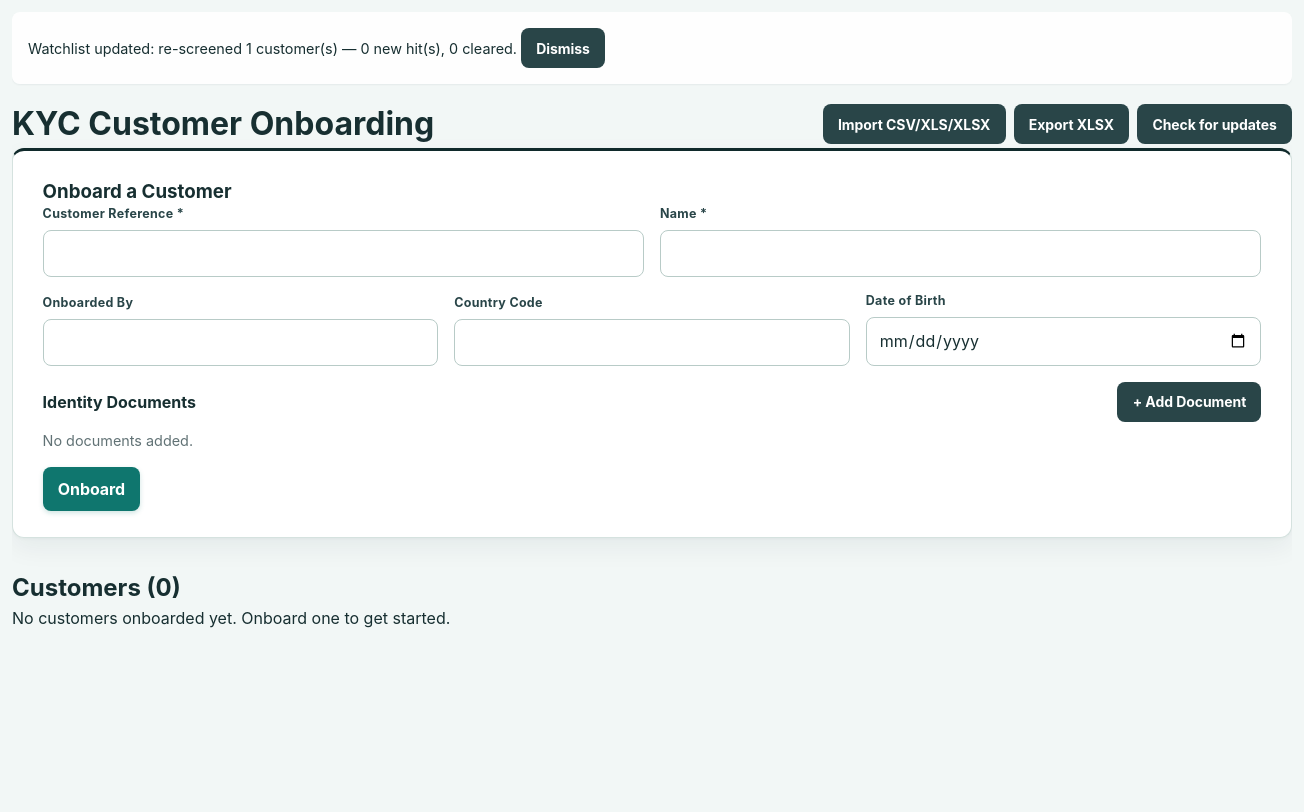
Test: re-screen banner › the background banner is up first: the click's report of the same run replaces it
expect the text "Watchlist updated: re-screened 1 customer" is shown: met, box [28,40,517,57]
Click the button "Check for updates" at (1215, 124), box [1137,104,1292,144]
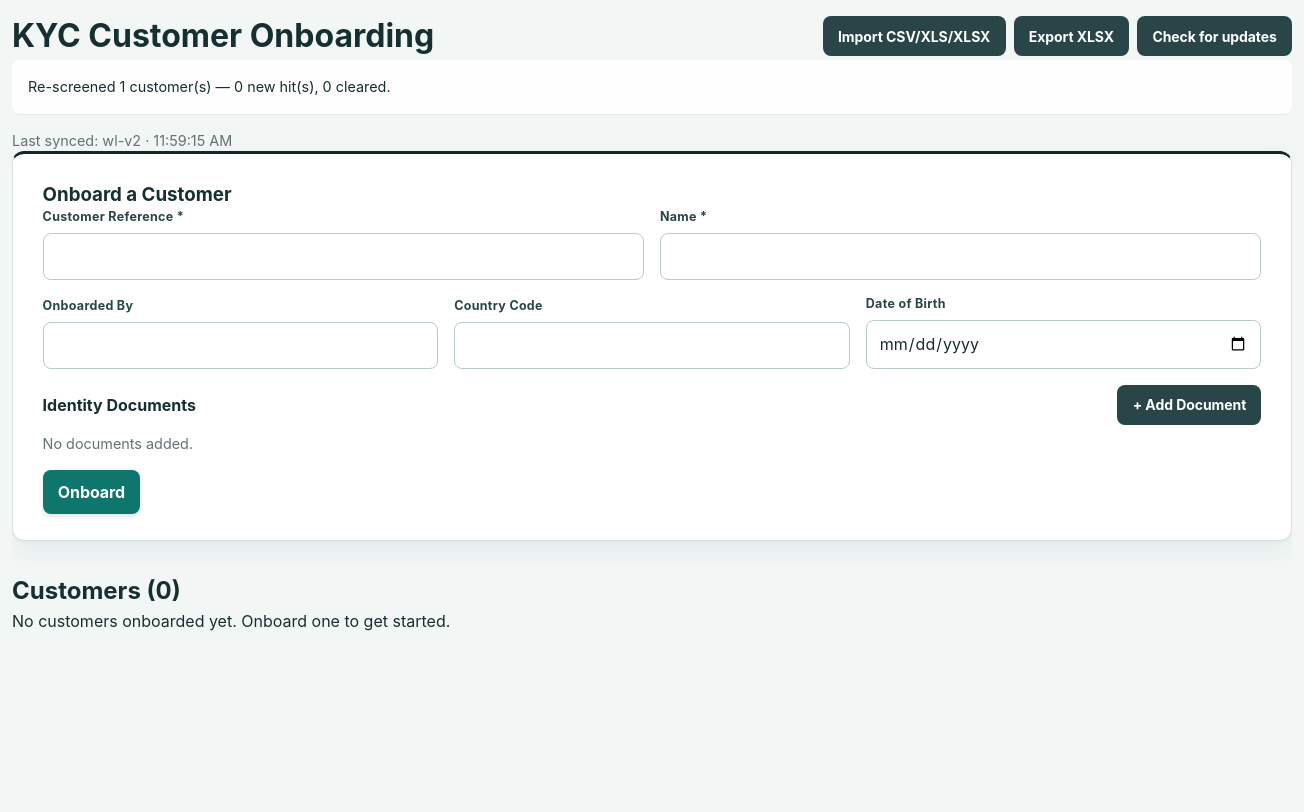
expect the text "Re-screened 1 customer(s) — 0 new hit(s), 0 cleared." is shown once: met, box [12,60,1292,114]
expect the text "Re-screened 1 customer(s) — 0 new hit(s), 0 cleared." is shown: met, box [12,60,1292,114]
expect the text "Watchlist updated" is gone: met
